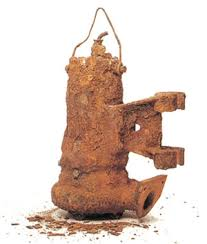rust: (56, 8, 188, 229)
